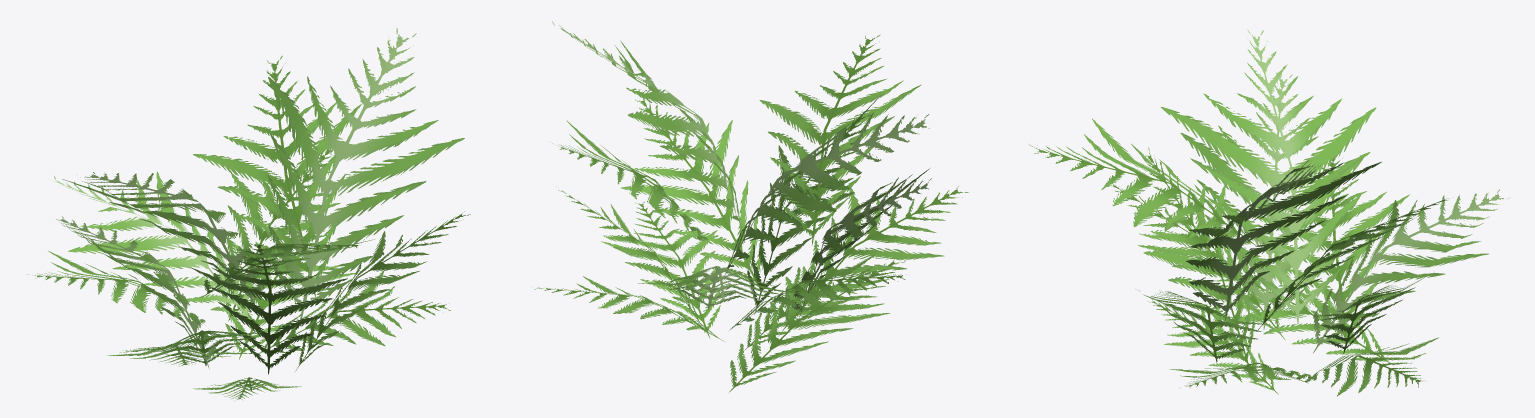
The model's file is bush_1_petit.fbx.
3 views of the same model, side by side, from view 1: azimuth 30°, elevation 25°; view 2: azimuth 150°, elevation 25°; view 3: azimuth 270°, elevation 25° (orthographic). The views are drawn at different scales.
Visible parts, largest first — view 1: feuillage_1_petit; view 2: feuillage_1_petit; view 3: feuillage_1_petit.
Part boxes in pixels (x1,y1,x2,y2): feuillage_1_petit: (26, 28, 470, 399); feuillage_1_petit: (531, 21, 968, 392); feuillage_1_petit: (1029, 29, 1509, 396).
Size of the model in its own units: 189 by 146 by 206.
